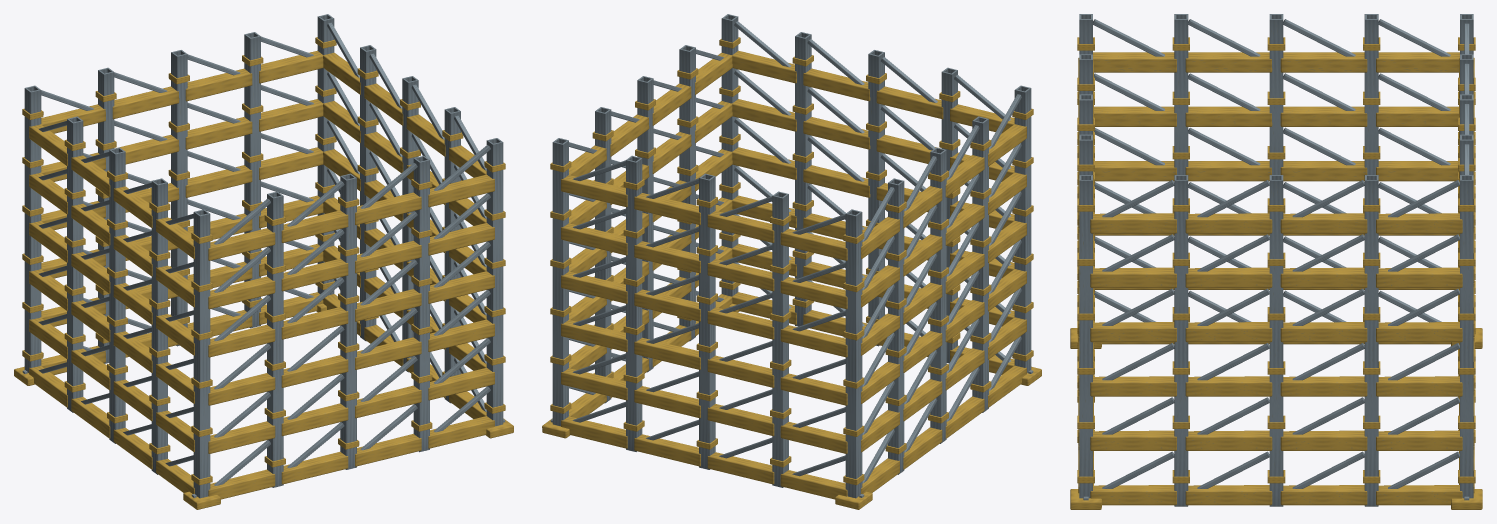
3 renders of one model, left to right at view 1: azimuth 30°, elevation 25°; view 2: azimuth 150°, elevation 25°; view 3: azimuth 270°, elevation 25°, orthographic. The views are drawn at different scales.
Parts seen in each view (by area): view 1: Tier 0 side 0 post 0, Tier 0 side 1 post 0, Tier 0 side 0 post 3, Tier 0 side 0 post 1, Tier 0 side 0 post 2, Tier 0 side 3 post 0, Tier 0 side 3 post 3, Tier 0 side 3 post 2, Tier 0 side 3 post 1, Tier 0 side 2 post 1, Tier 0 side 2 post 2, Tier 0 side 1 post 3 (+74 smaller); view 2: Tier 0 side 3 post 0, Tier 0 side 2 post 0, Tier 0 side 2 post 1, Tier 0 side 2 post 3, Tier 0 side 2 post 2, Tier 0 side 0 post 0, Tier 0 side 3 post 1, Tier 0 side 3 post 2, Tier 0 side 0 post 3, Tier 0 side 3 post 3, Tier 0 side 0 post 2, Tier 0 side 1 post 1 (+79 smaller); view 3: Tier 0 side 1 post 3, Tier 0 side 1 post 1, Tier 0 side 1 post 2, Tier 0 side 1 post 0, Tier 0 side 2 post 0, Tier 0 side 3 post 1, Tier 0 side 3 post 3, Tier 0 side 3 post 2, Tier 0 bay 1-0-1 service deck, Tier 0 bay 1-0-2 service deck, Tier 0 bay 1-3-1 service deck, Tier 0 bay 1-3-2 service deck (+72 smaller).
Part boxes in pixels (x1=…): Tier 0 side 0 post 0: x1=193, y1=209, x2=210, y2=498; Tier 0 side 1 post 0: x1=486, y1=138, x2=503, y2=426; Tier 0 side 0 post 3: x1=413, y1=155, x2=429, y2=452; Tier 0 side 0 post 1: x1=267, y1=191, x2=283, y2=487; Tier 0 side 0 post 2: x1=340, y1=173, x2=356, y2=469; Tier 0 side 3 post 0: x1=24, y1=85, x2=41, y2=372; Tier 0 side 3 post 3: x1=151, y1=178, x2=167, y2=474; Tier 0 side 3 post 2: x1=109, y1=147, x2=125, y2=443; Tier 0 side 3 post 1: x1=67, y1=116, x2=83, y2=412; Tier 0 side 2 post 1: x1=244, y1=32, x2=260, y2=328; Tier 0 side 2 post 2: x1=171, y1=50, x2=187, y2=346; Tier 0 side 1 post 3: x1=360, y1=45, x2=376, y2=341; Tier 0 side 3 post 0: x1=845, y1=209, x2=862, y2=498; Tier 0 side 2 post 0: x1=552, y1=138, x2=568, y2=426; Tier 0 side 2 post 1: x1=626, y1=155, x2=642, y2=451; Tier 0 side 2 post 3: x1=772, y1=191, x2=788, y2=487; Tier 0 side 2 post 2: x1=699, y1=173, x2=715, y2=469; Tier 0 side 0 post 0: x1=1014, y1=85, x2=1031, y2=372; Tier 0 side 3 post 1: x1=888, y1=178, x2=904, y2=474; Tier 0 side 3 post 2: x1=930, y1=147, x2=946, y2=443; Tier 0 side 0 post 3: x1=795, y1=32, x2=811, y2=326; Tier 0 side 3 post 3: x1=972, y1=116, x2=988, y2=412; Tier 0 side 0 post 2: x1=868, y1=50, x2=884, y2=346; Tier 0 side 1 post 1: x1=679, y1=45, x2=695, y2=341; Tier 0 side 1 post 3: x1=1364, y1=175, x2=1378, y2=506; Tier 0 side 1 post 1: x1=1174, y1=175, x2=1188, y2=506; Tier 0 side 1 post 2: x1=1269, y1=175, x2=1283, y2=506; Tier 0 side 1 post 0: x1=1079, y1=175, x2=1092, y2=498; Tier 0 side 2 post 0: x1=1460, y1=175, x2=1473, y2=498; Tier 0 side 3 post 1: x1=1364, y1=14, x2=1378, y2=174; Tier 0 side 3 post 3: x1=1174, y1=14, x2=1188, y2=174; Tier 0 side 3 post 2: x1=1269, y1=14, x2=1283, y2=174; Tier 0 bay 1-0-1 service deck: x1=1185, y1=485, x2=1272, y2=505; Tier 0 bay 1-0-2 service deck: x1=1280, y1=485, x2=1367, y2=505; Tier 0 bay 1-3-1 service deck: x1=1185, y1=322, x2=1272, y2=342; Tier 0 bay 1-3-2 service deck: x1=1280, y1=322, x2=1367, y2=342.
Size of the model in its own units: 1.95 by 1.7 by 1.95.
2 materials, 2 textured.
